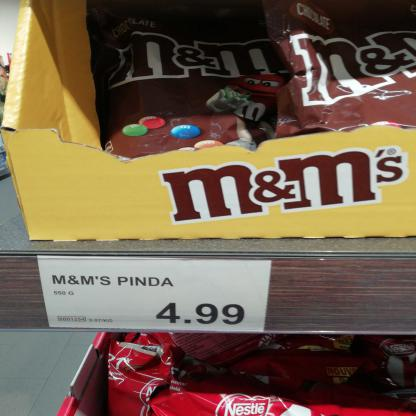prtg: (37, 257, 274, 333)
